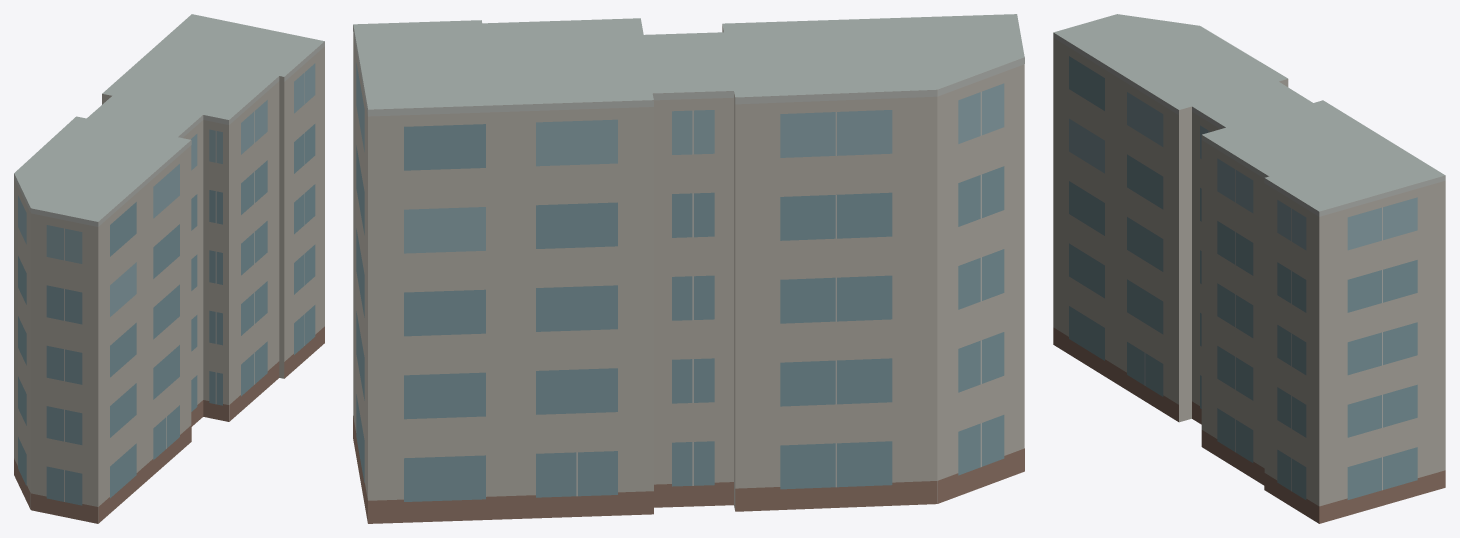
File: survey-upis-32919460.glb
3 views of the same model, side by side, from view 1: azimuth 30°, elevation 25°; view 2: azimuth 150°, elevation 25°; view 3: azimuth 270°, elevation 25° (orthographic). The views are drawn at different scales.
Visible parts, largest first — view 1: survey-upis-32919460.tmp; view 2: survey-upis-32919460.tmp; view 3: survey-upis-32919460.tmp.
Part boxes in pixels (x1,y1,x2,y2): survey-upis-32919460.tmp: [14, 14, 324, 523]; survey-upis-32919460.tmp: [353, 14, 1024, 523]; survey-upis-32919460.tmp: [1053, 14, 1445, 523].
Size of the model in its own units: 19.83 by 14.6 by 16.63.
